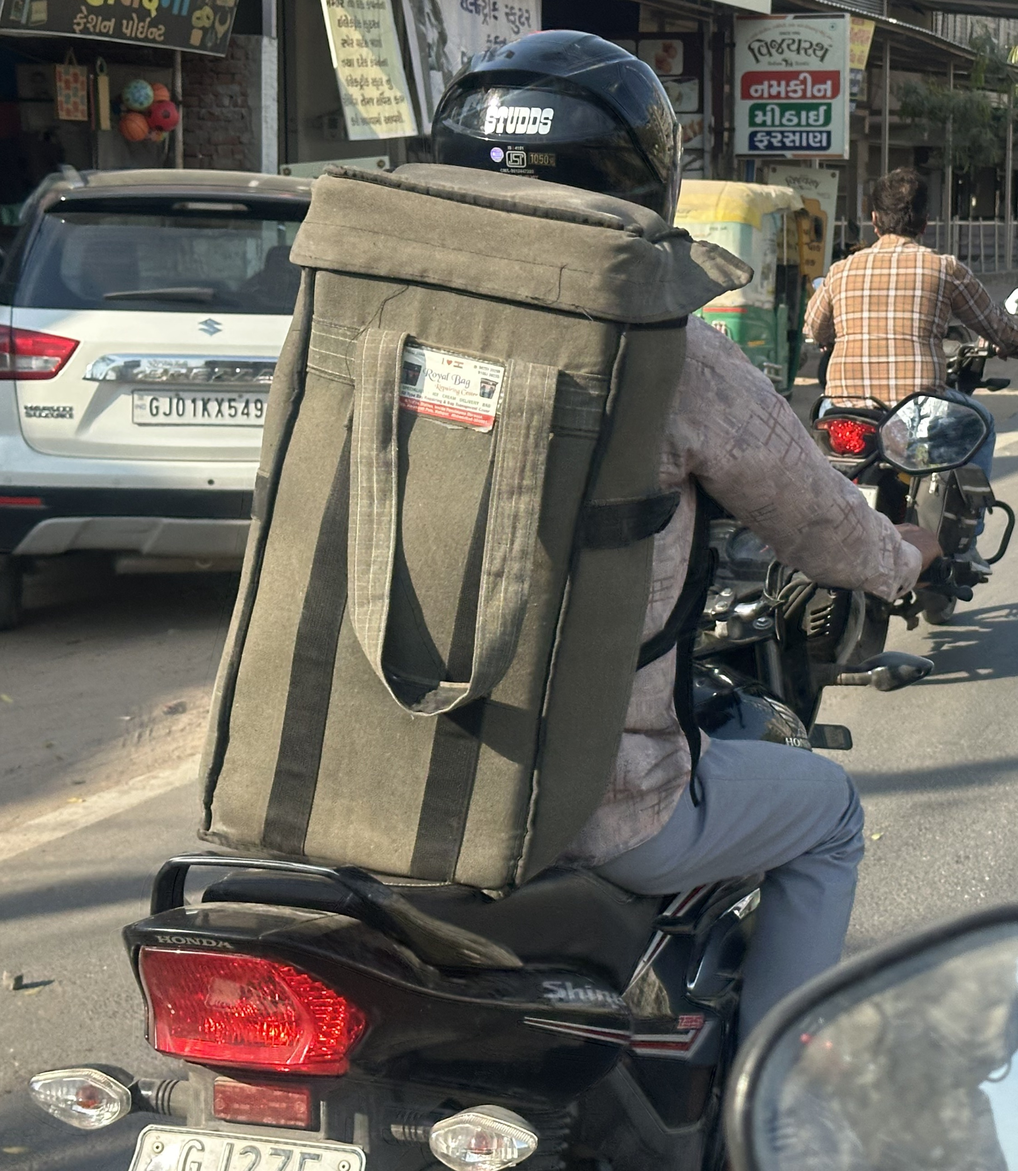BikeWithRider: (17, 18, 999, 1171), (762, 158, 1016, 716)
Helmet: (408, 20, 702, 246)
NoHelmet: (853, 158, 945, 253)
